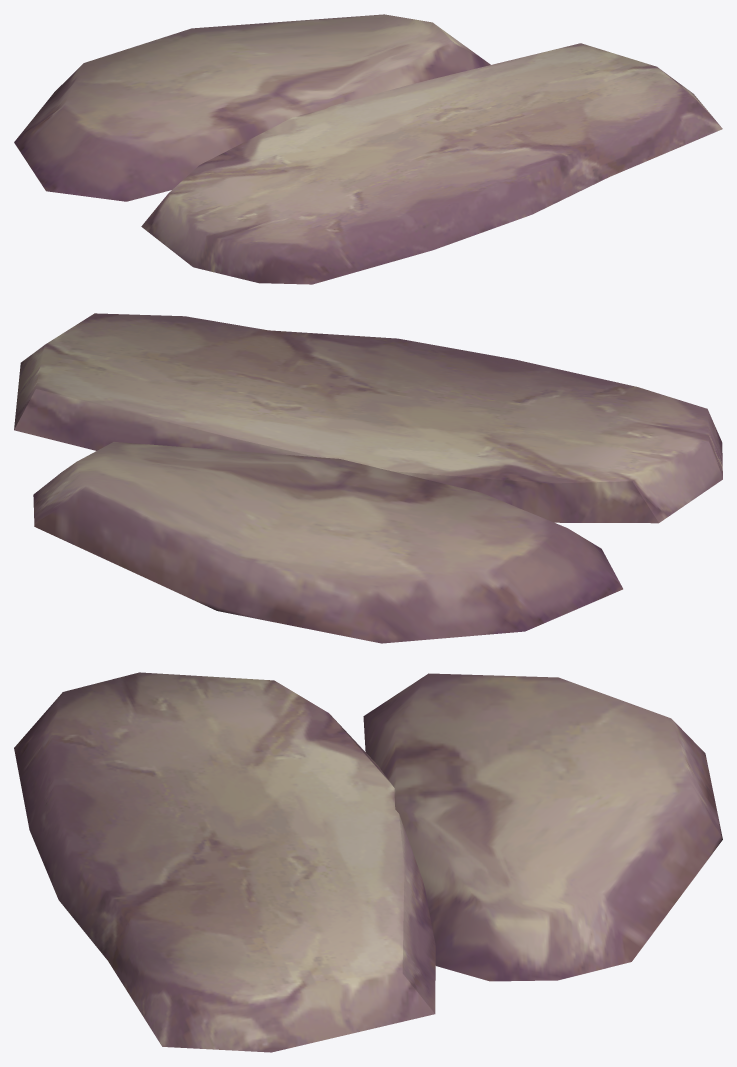
The model's file is loyalismwood_round04.FBX.
3 views of the same model, one above another, from view 1: azimuth 30°, elevation 25°; view 2: azimuth 150°, elevation 25°; view 3: azimuth 270°, elevation 25° (orthographic). The views are drawn at different scales.
Visible parts, largest first — view 1: loyalismwood_round04; view 2: loyalismwood_round04; view 3: loyalismwood_round04.
Part boxes in pixels (x1,y1,x2,y2): loyalismwood_round04: (14, 14, 722, 284); loyalismwood_round04: (14, 313, 722, 643); loyalismwood_round04: (14, 672, 722, 1052).
Bounding box in the file's own units: 289 × 232 × 16.47.
